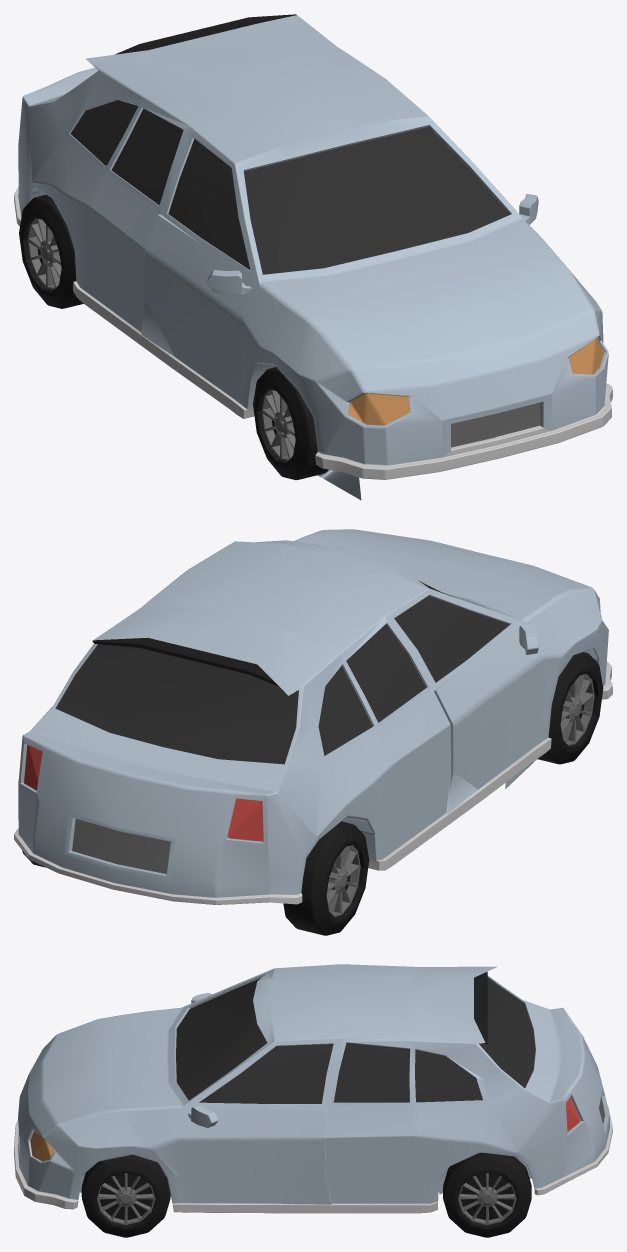
File: coupe.glb
The picture shows the model from 3 angles, top to bottom: view 1: azimuth 30°, elevation 25°; view 2: azimuth 150°, elevation 25°; view 3: azimuth 270°, elevation 25°; orthographic projection. The views are drawn at different scales.
Parts seen in each view (by area): view 1: NormalCar2_Cube.002, NormalCar2_FrontRightWheel_Cylinder.016, NormalCar2_BackWheels_Cylinder.003; view 2: NormalCar2_Cube.002, NormalCar2_BackWheels_Cylinder.003, NormalCar2_FrontRightWheel_Cylinder.016; view 3: NormalCar2_Cube.002, NormalCar2_BackWheels_Cylinder.003, NormalCar2_FrontLeftWheel_Cylinder.015.
Part boxes in pixels (box(x1,y1,x2,y2)): NormalCar2_Cube.002: box(14, 14, 612, 500); NormalCar2_FrontRightWheel_Cylinder.016: box(253, 367, 328, 480); NormalCar2_BackWheels_Cylinder.003: box(19, 194, 83, 308); NormalCar2_Cube.002: box(14, 529, 612, 904); NormalCar2_BackWheels_Cylinder.003: box(22, 821, 369, 935); NormalCar2_FrontRightWheel_Cylinder.016: box(537, 652, 603, 764); NormalCar2_Cube.002: box(14, 964, 612, 1213); NormalCar2_BackWheels_Cylinder.003: box(443, 1153, 531, 1237); NormalCar2_FrontLeftWheel_Cylinder.015: box(81, 1155, 170, 1237).
Size of the model in its own units: 1.63 by 1.2 by 3.31.
